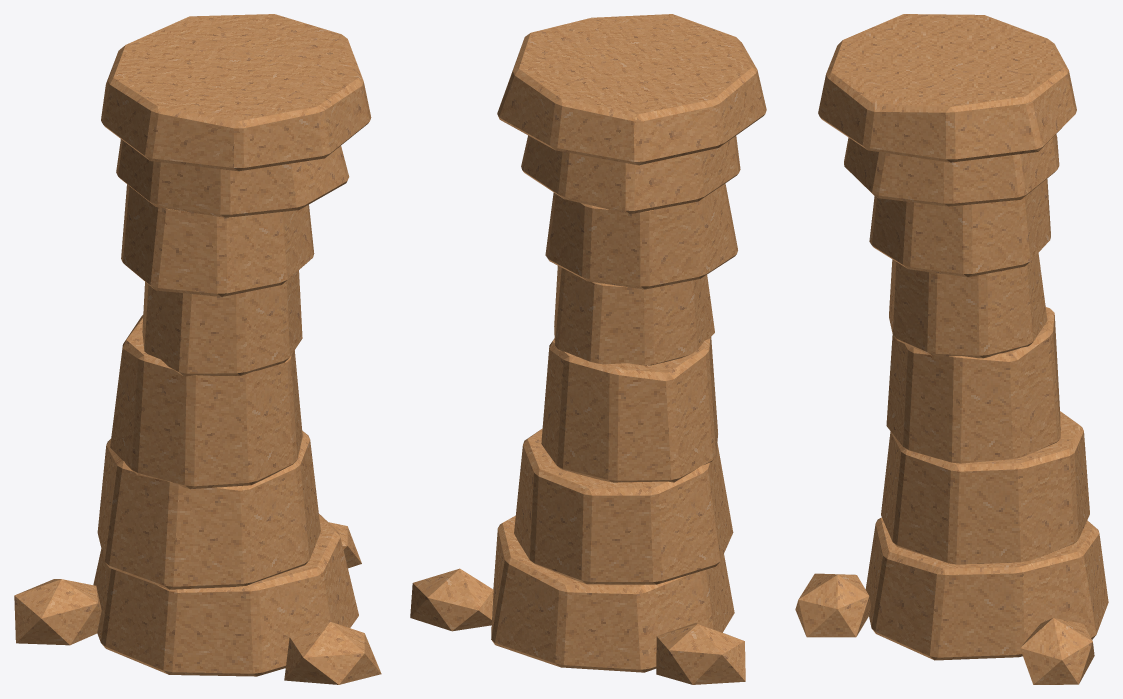
Rendered from desert_hoodoo.glb.
3 views of the same model, side by side, from view 1: azimuth 30°, elevation 25°; view 2: azimuth 150°, elevation 25°; view 3: azimuth 270°, elevation 25° (orthographic). The views are drawn at different scales.
Parts seen in each view (by area): view 1: Hoodoo; view 2: Hoodoo; view 3: Hoodoo.
Boxes of the visible parts, x1,y1,x2,y2 form: Hoodoo: [14, 14, 381, 684]; Hoodoo: [410, 14, 766, 684]; Hoodoo: [795, 14, 1108, 684].
Bounding box in the file's own units: 5.33 × 8.66 × 4.47.
Materials: 1 (1 with a texture image).
